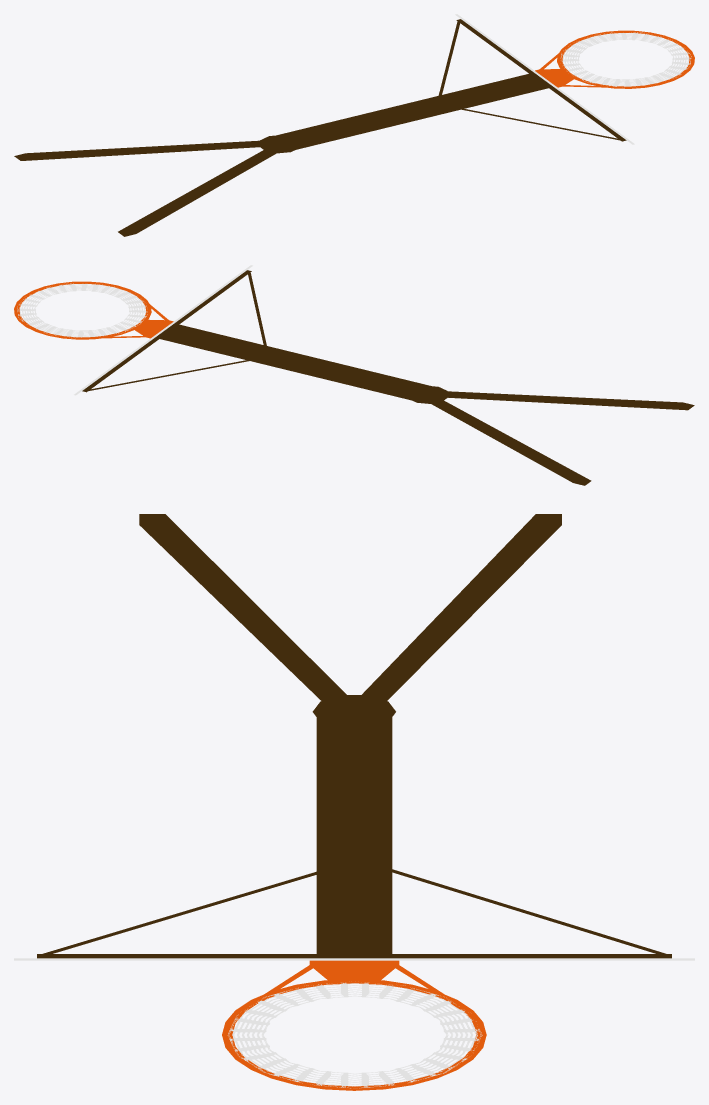
Rendered from 16secHoop.glb.
3 renders of one model, top to bottom at view 1: azimuth 30°, elevation 25°; view 2: azimuth 150°, elevation 25°; view 3: azimuth 270°, elevation 25°, orthographic. The views are drawn at different scales.
Parts seen in each view (by area): view 1: default_metal_0, default_Setka_0, default_metal orange_0, default_metal white_0; view 2: default_metal_0, default_Setka_0, default_metal orange_0, default_metal white_0; view 3: default_metal_0, default_Setka_0, default_metal orange_0, default_metal white_0.
Part boxes in pixels (x1,y1,x2,y2): default_metal_0: (14, 19, 626, 236); default_Setka_0: (560, 32, 691, 86); default_metal orange_0: (535, 30, 694, 88); default_metal white_0: (455, 14, 634, 144); default_metal_0: (82, 270, 694, 485); default_Setka_0: (17, 283, 147, 338); default_metal orange_0: (14, 281, 173, 339); default_metal white_0: (74, 265, 252, 395); default_metal_0: (37, 514, 671, 958); default_Setka_0: (227, 982, 482, 1088); default_metal orange_0: (222, 960, 486, 1090); default_metal white_0: (14, 958, 694, 960).
Bounding box in the file's own units: 2.61 × 2.89e-16 × 1.3.
5 materials, 1 textured.
